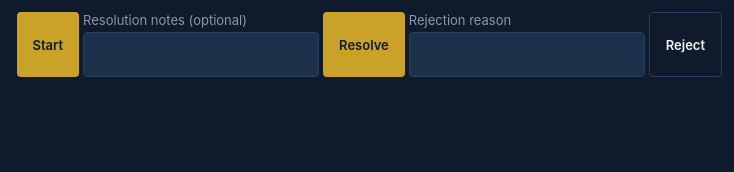
it: SnagActions — ids and errors › shows the action-returned error message when an action fails
What coordinates should you click on to do the following:
click the button "Start"
I would click on:
 (48, 44)
Its box is [16, 12, 79, 77].
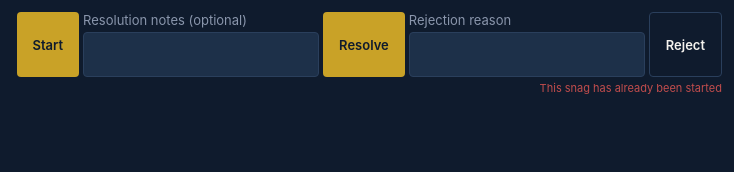
Check: the text "This snag has already been started" is shown, box [540, 81, 722, 95]
